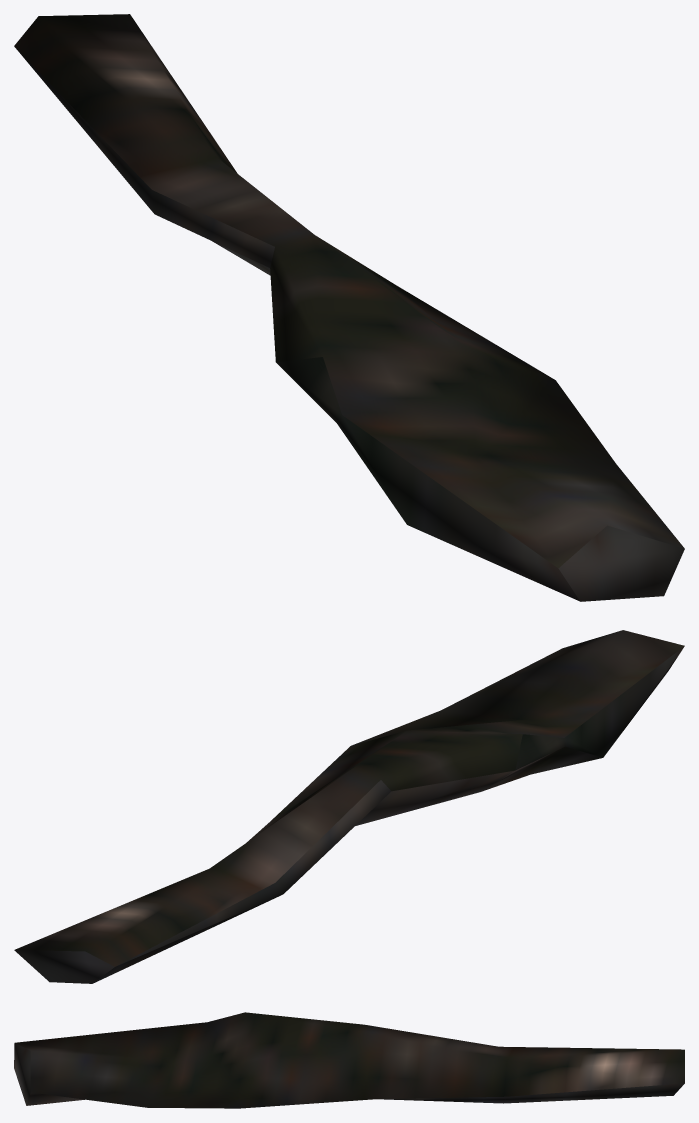
File: longbone7.glb
The picture shows the model from 3 angles, top to bottom: view 1: azimuth 30°, elevation 25°; view 2: azimuth 150°, elevation 25°; view 3: azimuth 270°, elevation 25°; orthographic projection. The views are drawn at different scales.
Parts seen in each view (by area): view 1: longbone7; view 2: longbone7; view 3: longbone7.
Boxes of the visible parts, x1,y1,x2,y2 form: longbone7: (14, 14, 684, 601); longbone7: (14, 630, 684, 983); longbone7: (14, 1012, 684, 1108).
Size of the model in its own units: 0.0383 by 0.0188 by 0.1703.
Materials: 1 (1 with a texture image).
